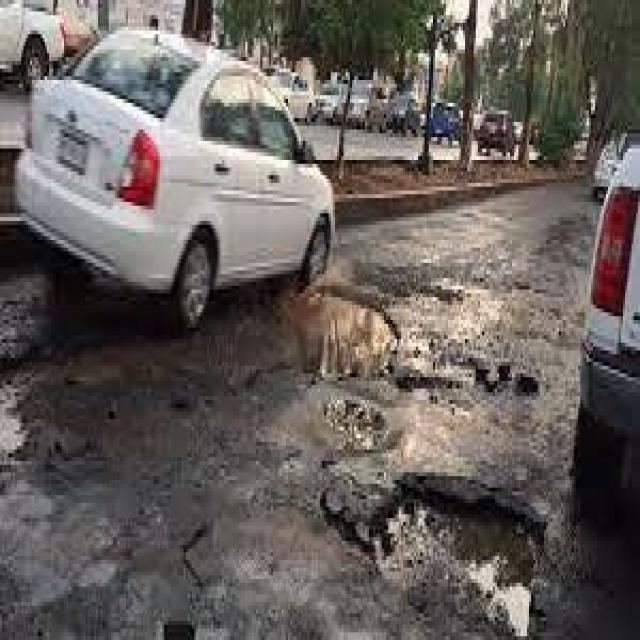Pothole: (318, 438, 597, 640), (233, 251, 420, 400), (109, 491, 239, 640)
